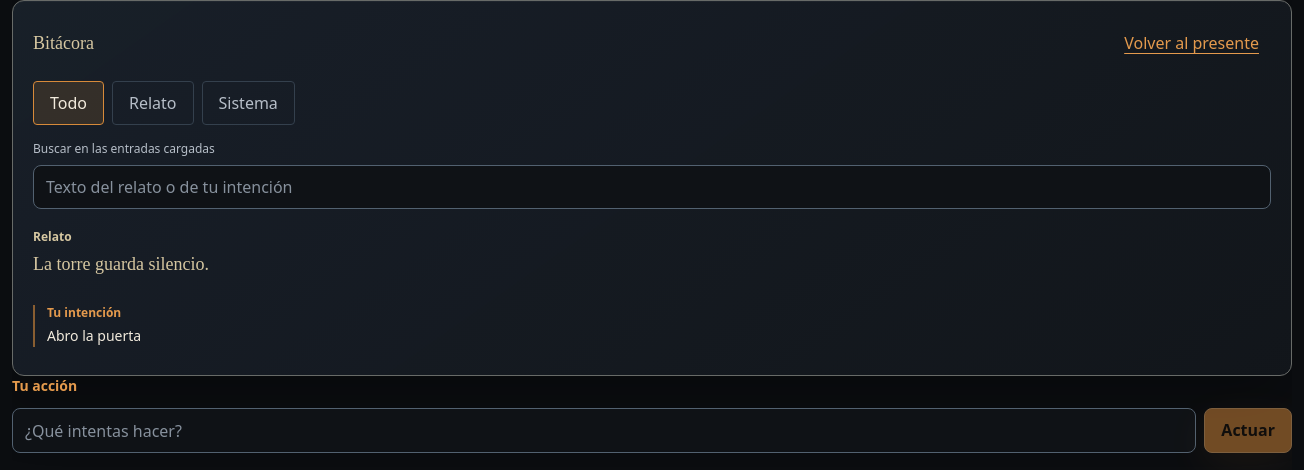
Test: campaign story through the real action stream › searches only loaded text and restores the whole log when returning to the present
In the search field labelled "Buscar en las entradas cargadas": (652, 187) [33,165,1271,209], type "TORRE"
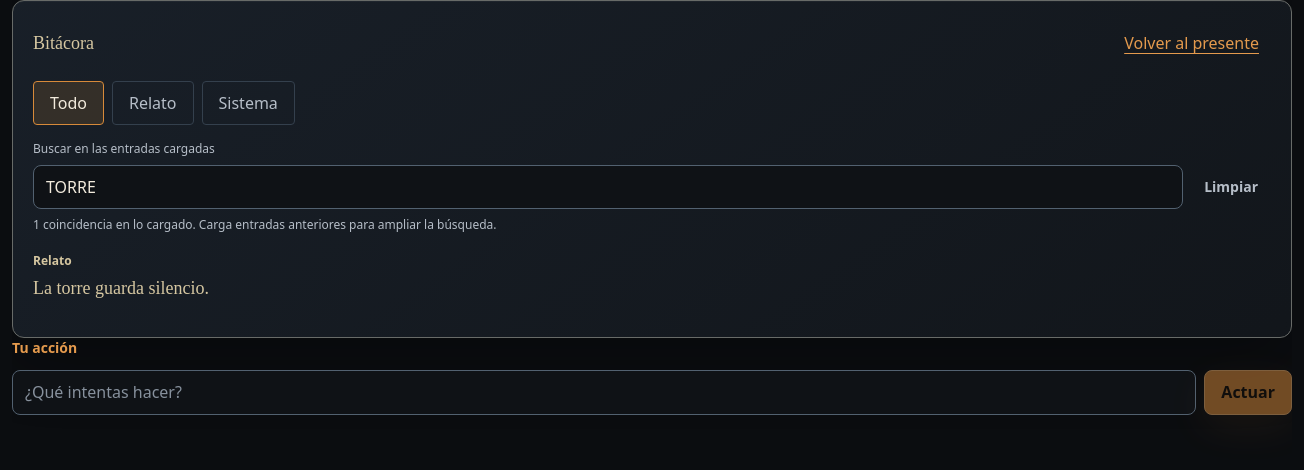
Expected: the text "La torre guarda silencio." is shown, [33,278,209,298]
Expected: the text "Abro la puerta" is gone
Expected: the text "1 coincidencia en lo cargado" is shown, [33,216,496,233]
Replace the text in the search field labelled "Buscar en las entradas cargadas" with "dragón": (608, 187) [33,165,1183,209]
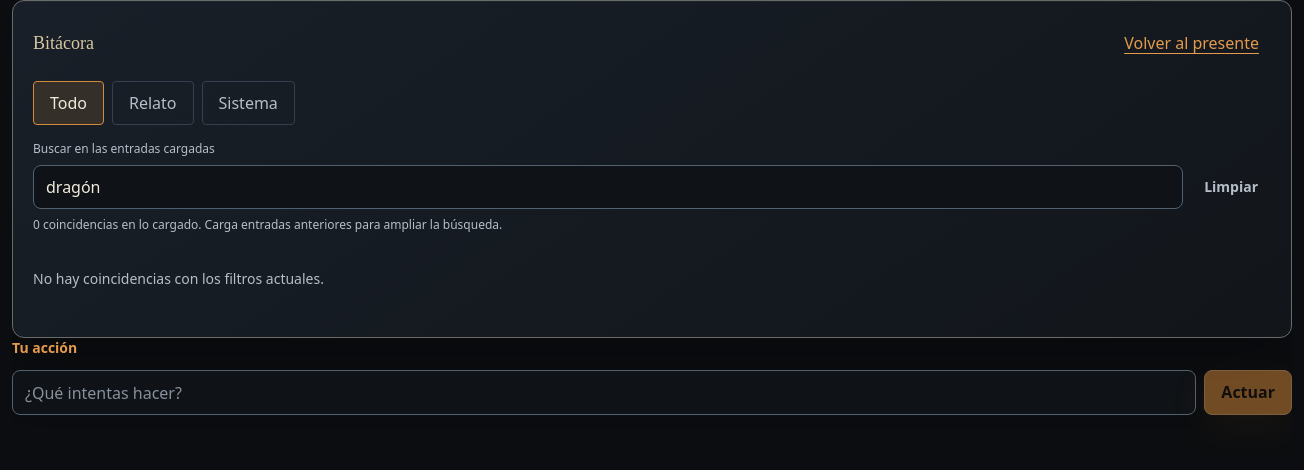
Expected: the text "No hay coincidencias con los filtros actuales." is shown, [33,269,324,288]
Click the button "Volver al presente": (1192, 43) [1112,21,1271,65]
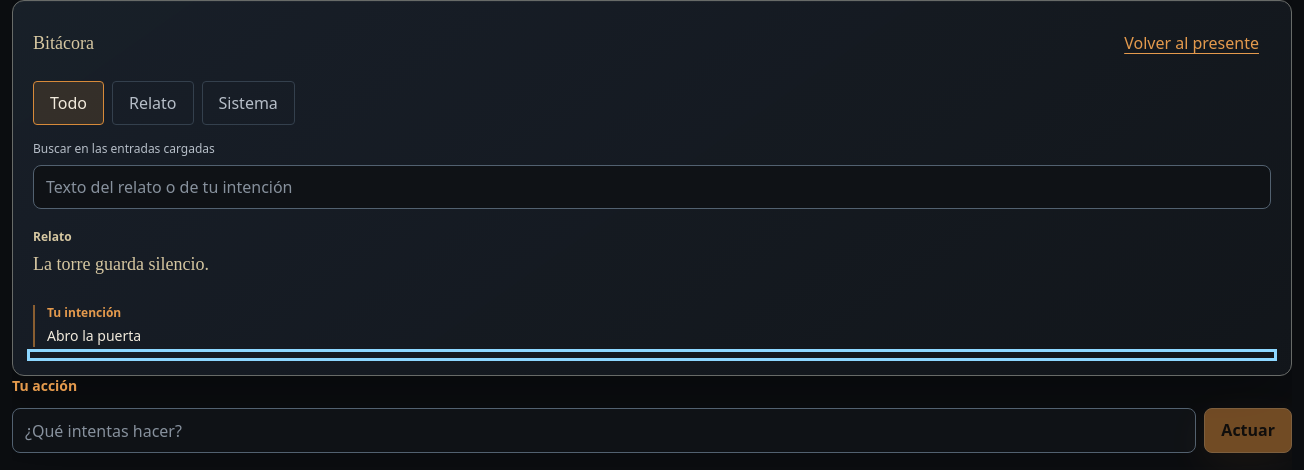
Expected: the search field labelled "Buscar en las entradas cargadas" is empty, [33,165,1271,209]
Expected: the text "Abro la puerta" is shown, [47,326,141,344]
